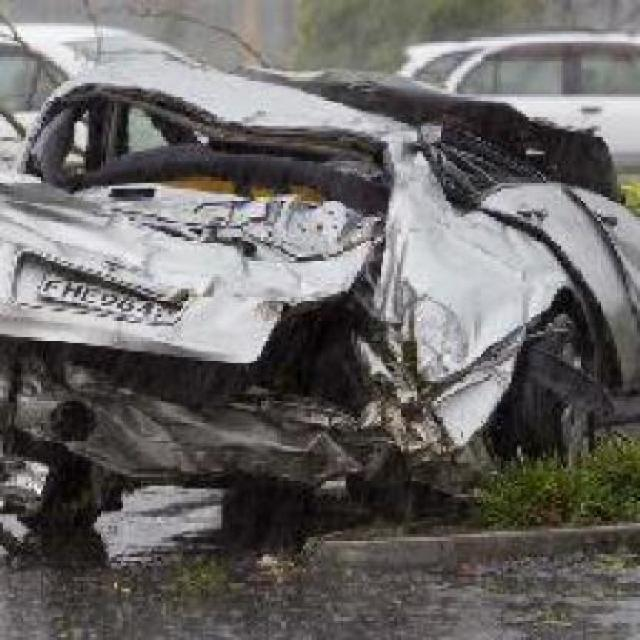damaged-front-bumper: (0, 366, 440, 483)
damaged-rear-window: (56, 88, 382, 208)
damaged-trunk: (0, 174, 362, 363)
